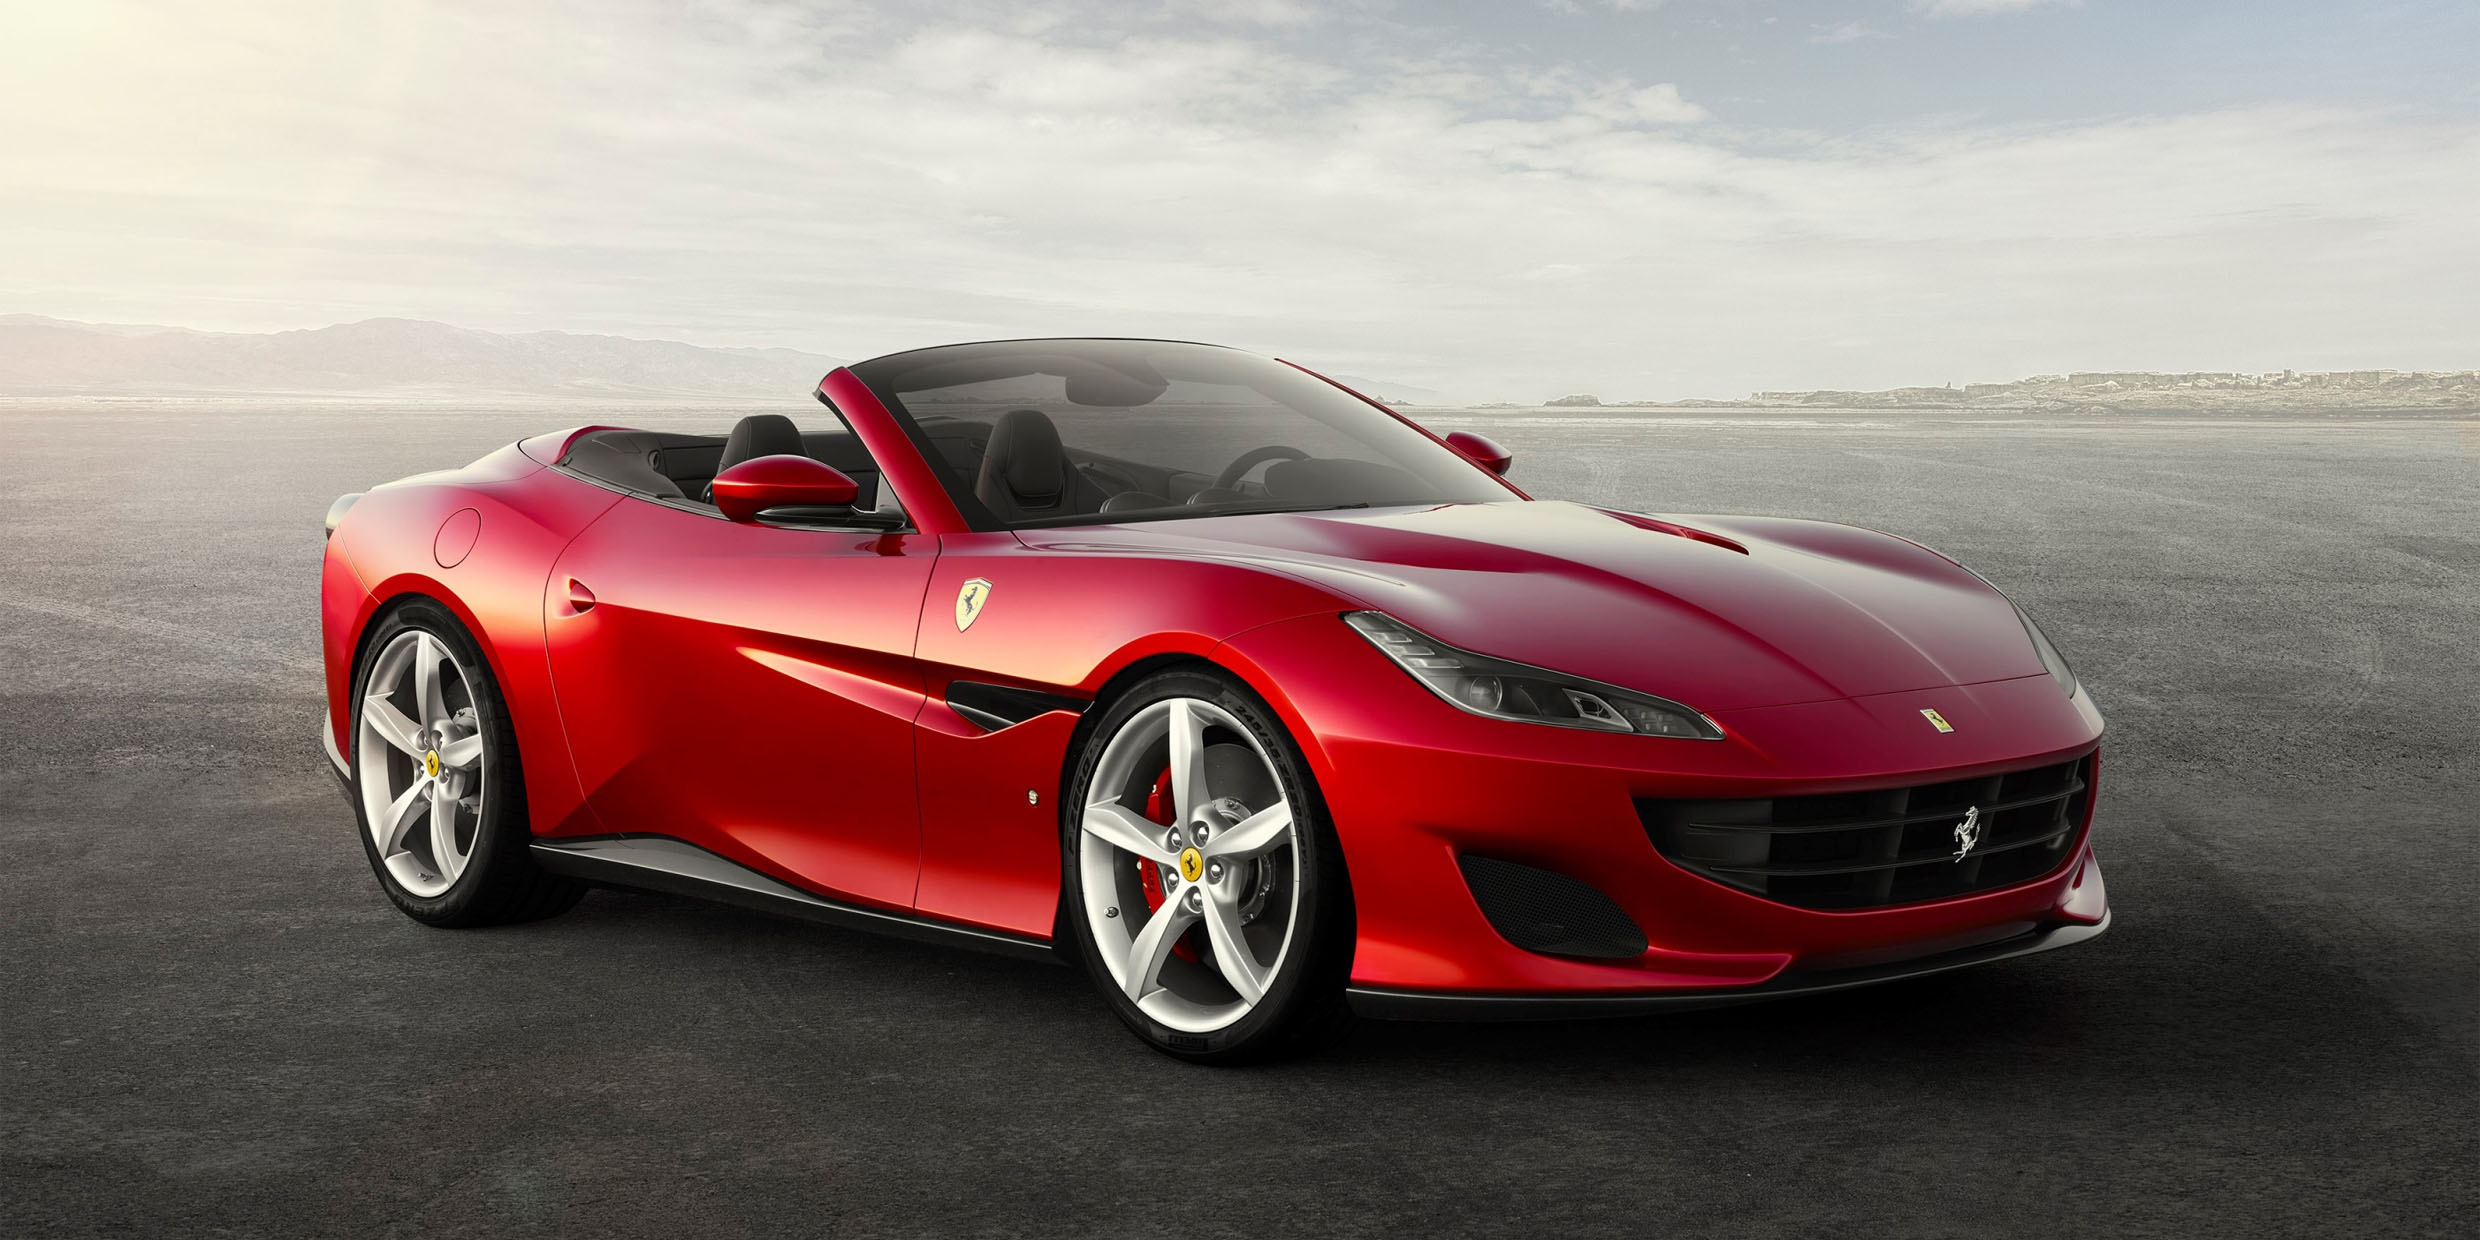car: (321, 338, 2111, 1068)
